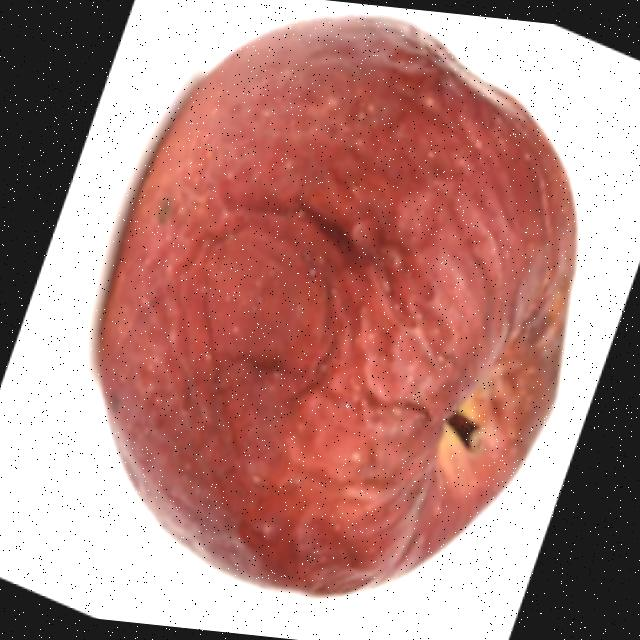overripe: (66, 0, 607, 623)
